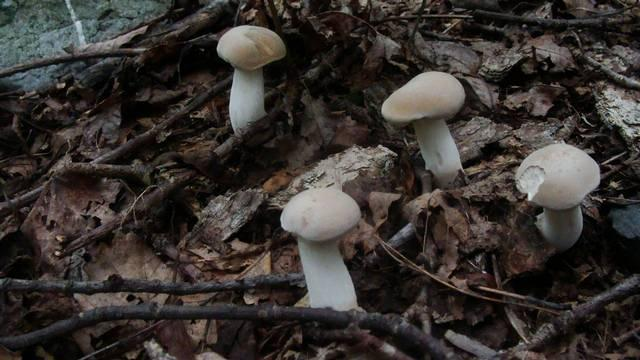edible_mushroom: (279, 186, 364, 313), (380, 70, 467, 188), (514, 142, 600, 250), (215, 24, 286, 136)
